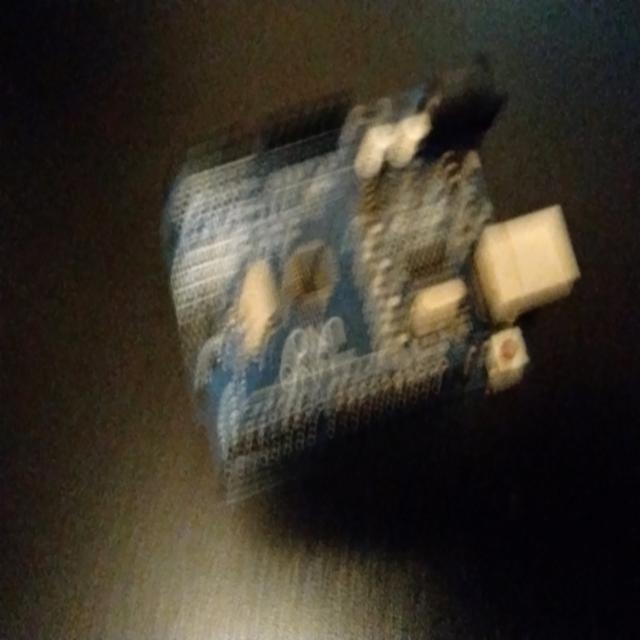arduino: (164, 48, 576, 501)
